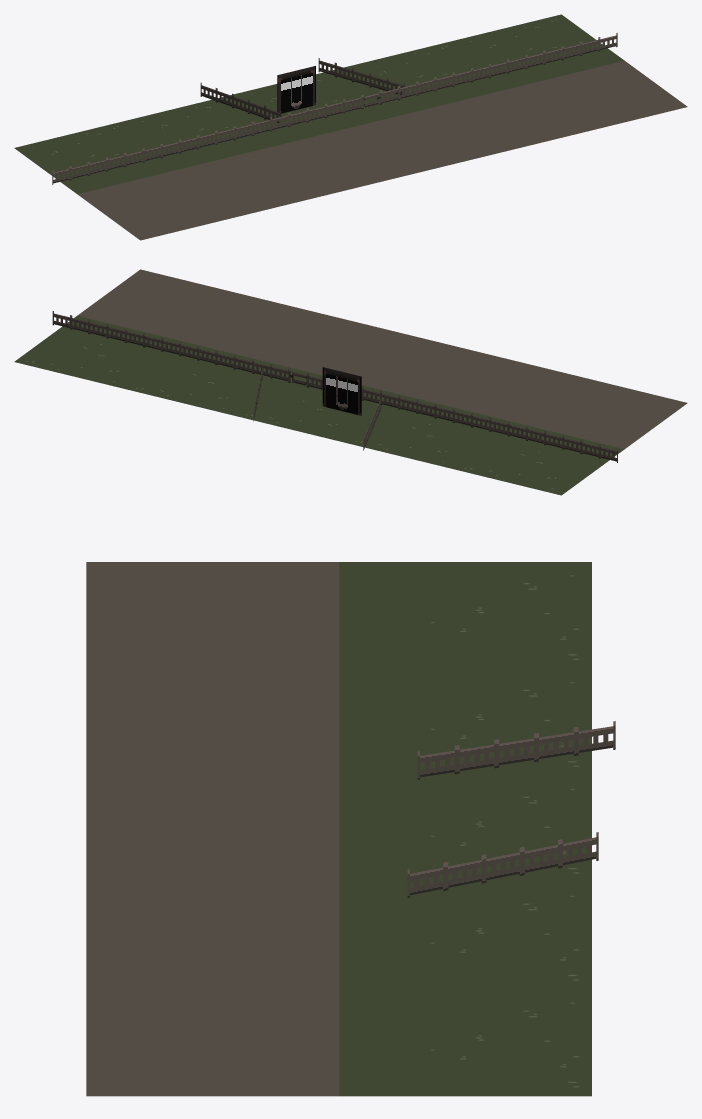
Rendered from Outside.fbx.
3 views of the same model, one above another, from view 1: azimuth 30°, elevation 25°; view 2: azimuth 150°, elevation 25°; view 3: azimuth 270°, elevation 25° (orthographic). The views are drawn at different scales.
Parts seen in each view (by area): view 1: Concrete_Centre, Concrete_Right1, Concrete_Left1, Concrete_Right, Concrete_Left, Fence, Ground_Left1, Ground_Right1, Ground_Right, Ground_Left, Ground_Centre, Swing; view 2: Concrete_Right1, Concrete_Left1, Concrete_Left, Concrete_Right, Concrete_Centre, Ground_Right1, Ground_Left1, Ground_Left, Ground_Right, Fence, Ground_Centre, Swing; view 3: Concrete_Right, Concrete_Centre, Concrete_Left1, Concrete_Left, Ground_Left1, Concrete_Right1, Ground_Right1, Ground_Left, Ground_Centre, Ground_Right.
Boxes of the visible parts, <box> form: Concrete_Centre: <box>296,114,468,186</box>; Concrete_Right1: <box>77,167,249,240</box>; Concrete_Left1: <box>515,60,687,133</box>; Concrete_Right: <box>187,141,358,213</box>; Concrete_Left: <box>406,87,577,160</box>; Fence: <box>52,32,617,184</box>; Ground_Left1: <box>452,14,624,87</box>; Ground_Right1: <box>14,121,186,194</box>; Ground_Right: <box>124,95,295,167</box>; Ground_Left: <box>344,41,514,113</box>; Ground_Centre: <box>234,69,405,140</box>; Swing: <box>277,66,315,113</box>; Concrete_Right1: <box>515,376,687,449</box>; Concrete_Left1: <box>77,269,249,342</box>; Concrete_Left: <box>187,296,358,368</box>; Concrete_Right: <box>406,349,577,422</box>; Concrete_Centre: <box>296,323,468,395</box>; Ground_Right1: <box>452,422,624,495</box>; Ground_Left1: <box>14,315,186,388</box>; Ground_Left: <box>124,342,295,415</box>; Ground_Right: <box>343,396,514,468</box>; Fence: <box>52,311,617,462</box>; Ground_Centre: <box>233,369,405,441</box>; Swing: <box>322,367,361,415</box>; Concrete_Right: <box>86,668,339,775</box>; Concrete_Centre: <box>86,775,339,882</box>; Concrete_Left1: <box>86,989,339,1096</box>; Concrete_Left: <box>86,882,339,989</box>; Ground_Left1: <box>339,989,591,1096</box>; Concrete_Right1: <box>86,562,339,668</box>; Ground_Right1: <box>339,562,591,668</box>; Ground_Left: <box>339,882,591,989</box>; Ground_Centre: <box>339,775,591,882</box>; Ground_Right: <box>339,668,591,775</box>.
Bounding box in the file's own units: 6195 × 413 × 2512.
Materials: 5 (5 with a texture image).
